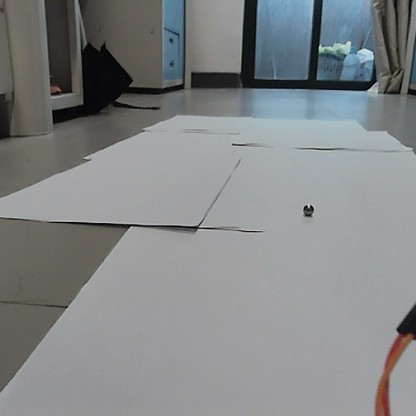ironball: (299, 199, 315, 216)
